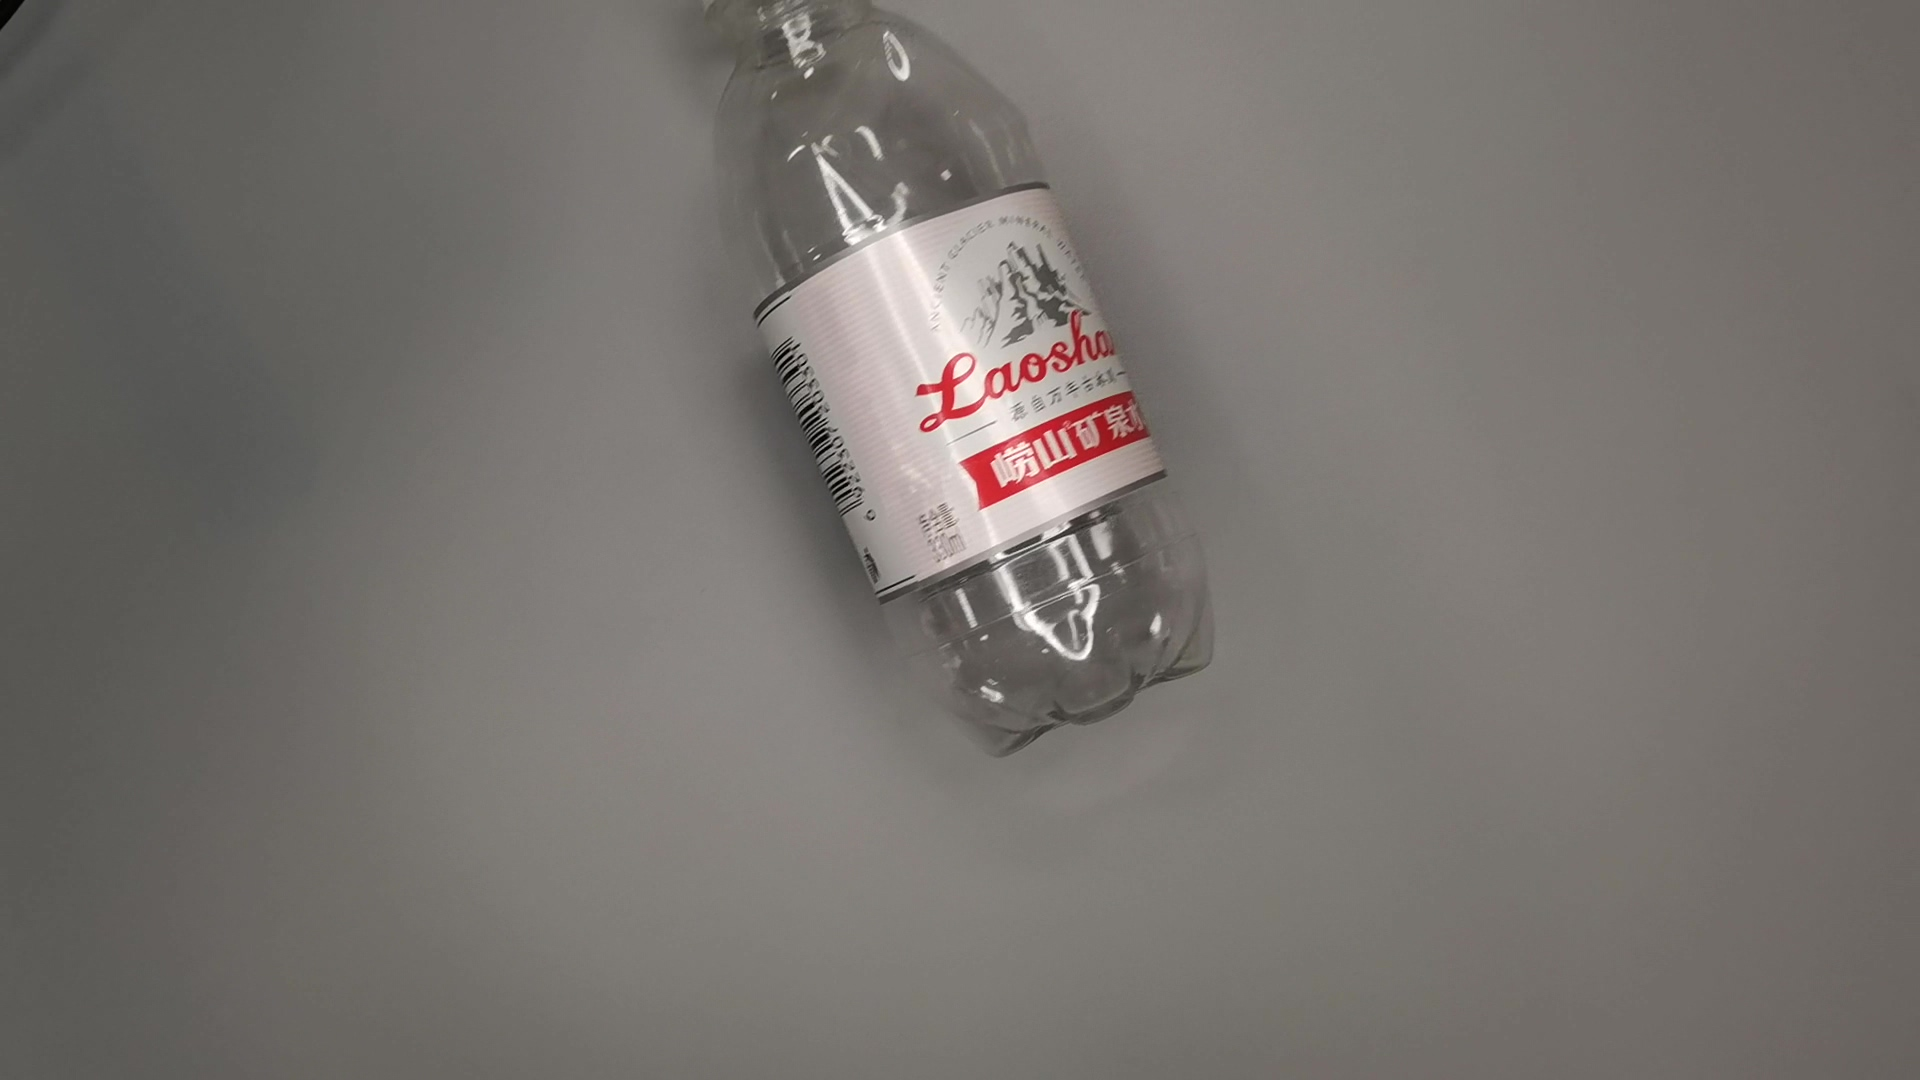bottle: (702, 1, 1226, 771)
